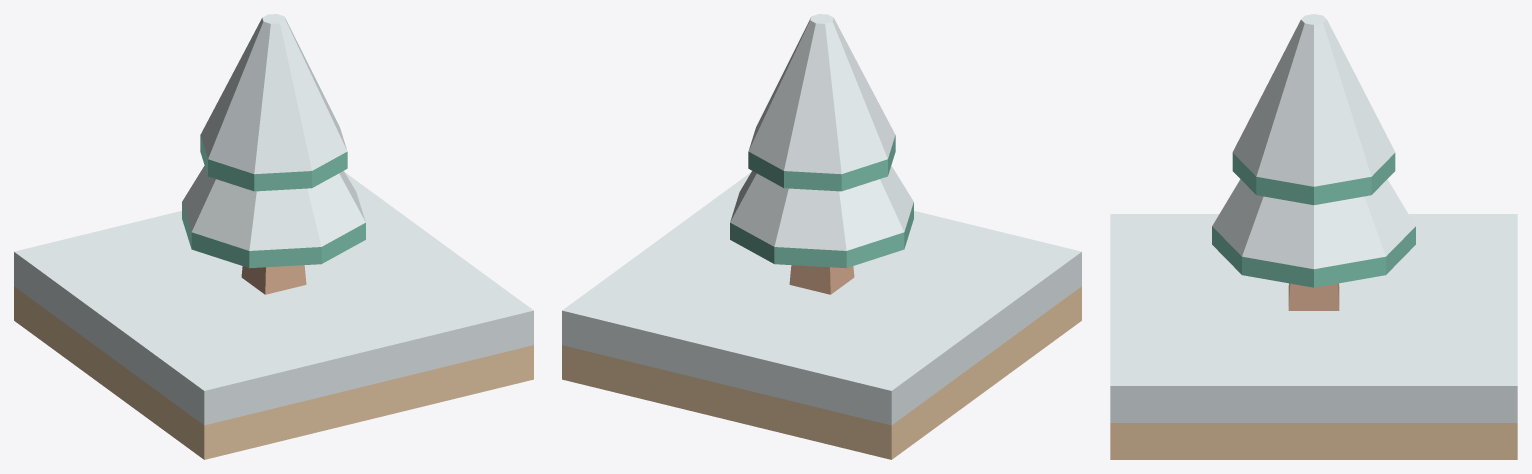
The model's file is snow_tile_tree.glb.
3 views of the same model, side by side, from view 1: azimuth 30°, elevation 25°; view 2: azimuth 150°, elevation 25°; view 3: azimuth 270°, elevation 25° (orthographic). The views are drawn at different scales.
Parts seen in each view (by area): view 1: snow_tile_tree, tree; view 2: snow_tile_tree, tree; view 3: snow_tile_tree, tree.
Part boxes in pixels (<box>): snow_tile_tree: <box>14,172,533,459</box>; tree: <box>182,14,365,294</box>; snow_tile_tree: <box>562,172,1081,459</box>; tree: <box>730,14,913,294</box>; snow_tile_tree: <box>1110,214,1517,459</box>; tree: <box>1212,14,1415,310</box>.
Size of the model in its own units: 1 by 0.96 by 1.
